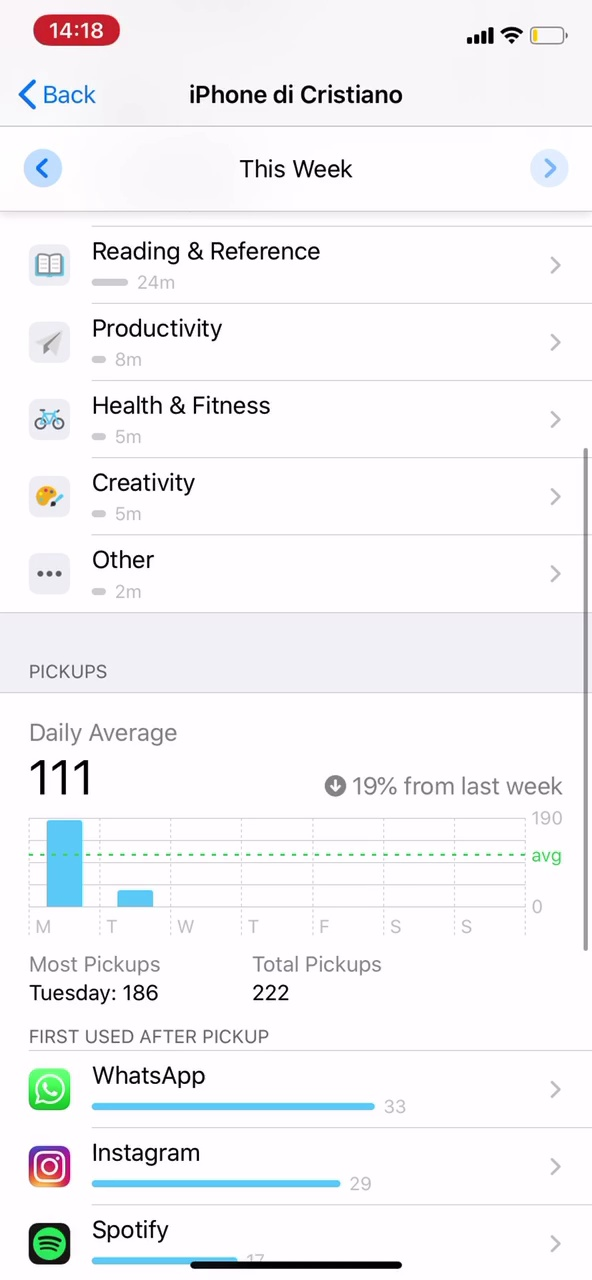pick_app: (23, 1058, 437, 1127), (25, 1138, 422, 1196)
pick_over: (18, 944, 432, 1013)
week: (217, 148, 370, 191)
